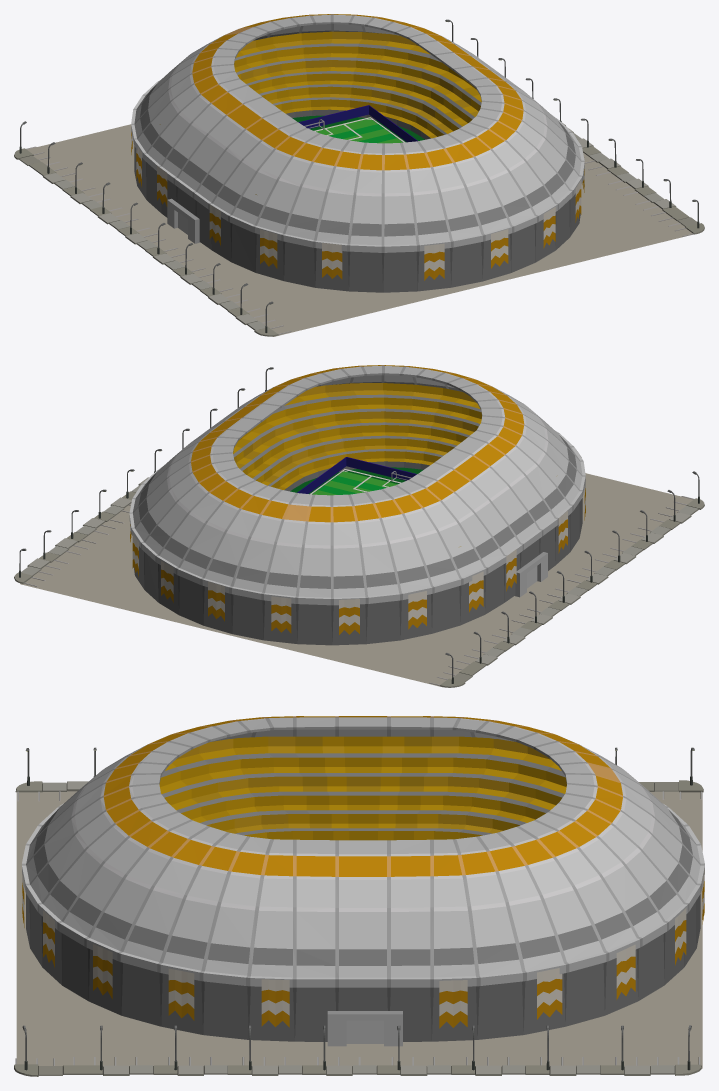
3 renders of one model, top to bottom at view 1: azimuth 30°, elevation 25°; view 2: azimuth 150°, elevation 25°; view 3: azimuth 270°, elevation 25°, orthographic. The views are drawn at different scales.
Parts seen in each view (by area): view 1: o-7; view 2: o-7; view 3: o-7.
Boxes of the visible parts, x1=… form: o-7: x1=14, y1=14, x2=704, y2=336; o-7: x1=14, y1=365, x2=704, y2=687; o-7: x1=14, y1=716, x2=704, y2=1076.
Size of the model in its own units: 0.9992 by 0.2343 by 0.988.
